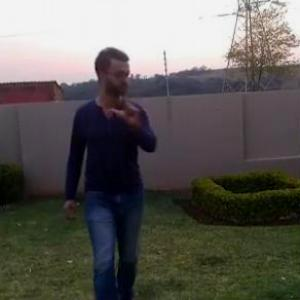land_hand: (111, 80, 147, 126)
